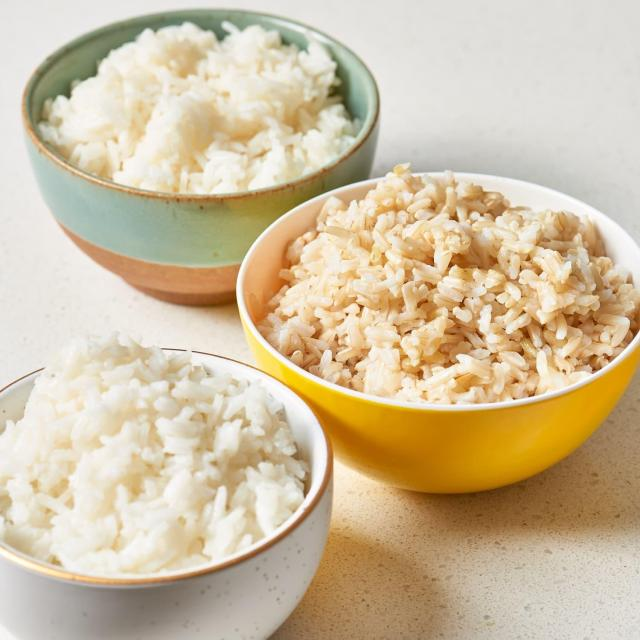rice: (268, 177, 640, 401), (0, 341, 313, 574), (55, 24, 357, 192)
